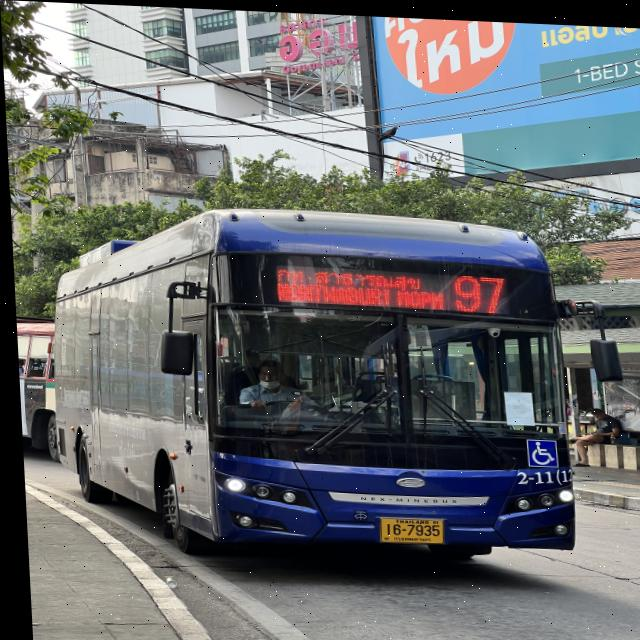BMTA-bus: (13, 319, 60, 464)
Bus Line Number: (444, 265, 509, 310)
Bus Side Number: (504, 462, 571, 483)
Destination Sign: (264, 259, 444, 310)
TSB-Bus: (46, 208, 571, 559)
